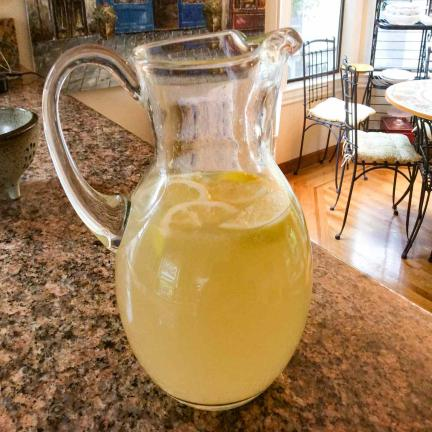container: (115, 30, 312, 410)
fluid: (115, 196, 312, 408)
fluid-surface: (133, 172, 294, 230)
